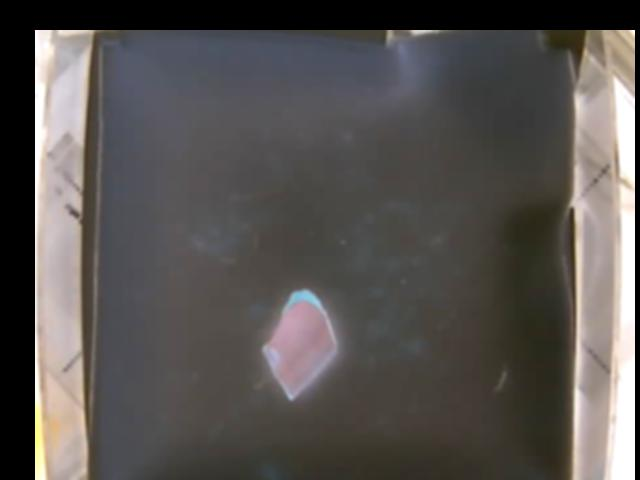China: (262, 288, 339, 398)
